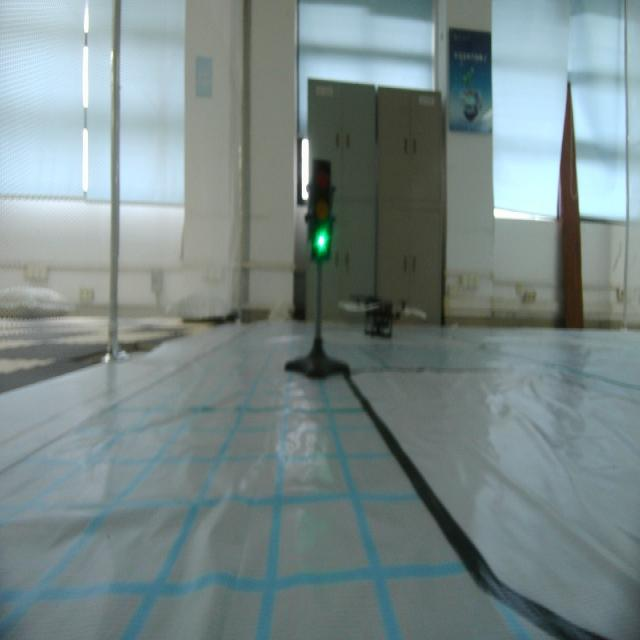green: (308, 156, 334, 262)
